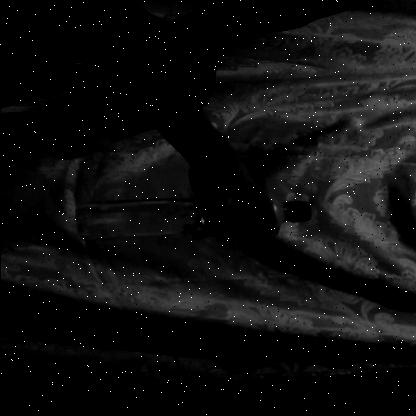Plastic Bottle: (58, 178, 350, 266)
